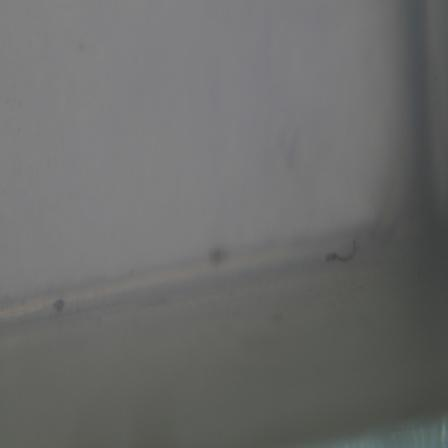Jentik-Nyamuk: (317, 232, 363, 267)
